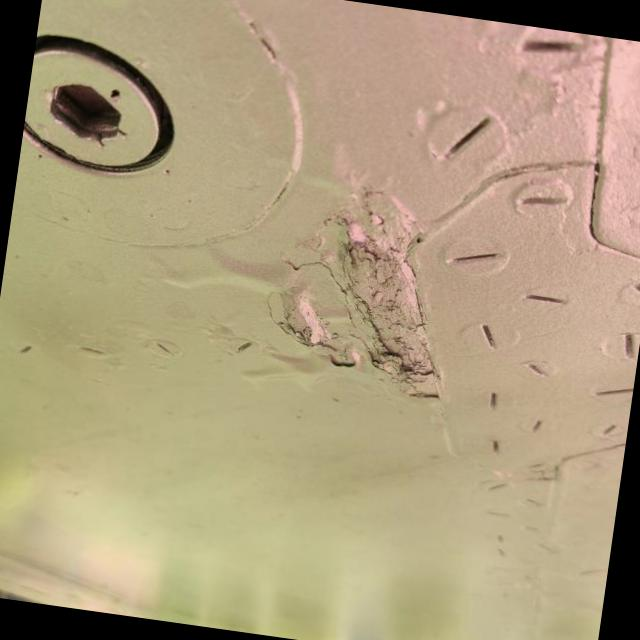paint-off: (242, 158, 486, 416)
